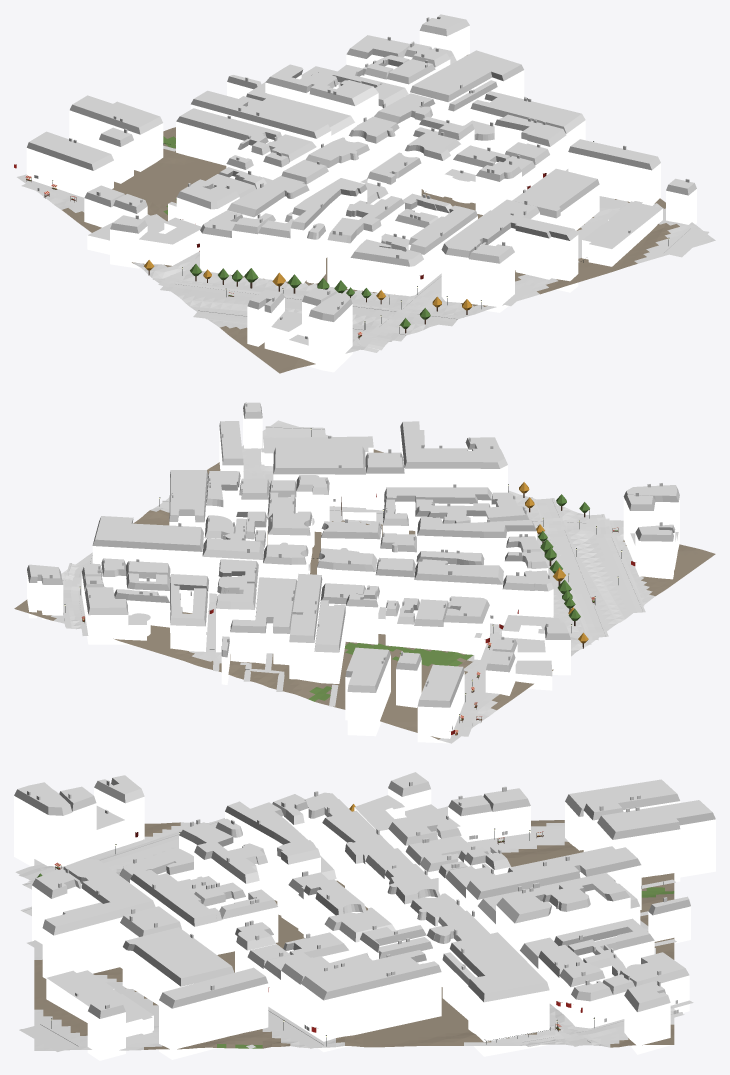
The model's file is zone_G4.glb.
3 views of the same model, one above another, from view 1: azimuth 30°, elevation 25°; view 2: azimuth 150°, elevation 25°; view 3: azimuth 270°, elevation 25° (orthographic). The views are drawn at different scales.
Visible parts, largest first — view 1: zone_G4_batiments, zone_G4_terrain, zone_G4_sol_NOCOL, zone_G4_decor_NOCOL; view 2: zone_G4_batiments, zone_G4_terrain, zone_G4_sol_NOCOL, zone_G4_decor_NOCOL; view 3: zone_G4_batiments, zone_G4_terrain, zone_G4_sol_NOCOL.
Part boxes in pixels (x1,y1,x2,y2): zone_G4_batiments: [26, 14, 696, 372]; zone_G4_terrain: [17, 55, 715, 373]; zone_G4_sol_NOCOL: [21, 145, 709, 352]; zone_G4_decor_NOCOL: [52, 97, 669, 333]; zone_G4_batiments: [27, 402, 679, 743]; zone_G4_terrain: [14, 420, 715, 743]; zone_G4_sol_NOCOL: [62, 426, 645, 736]; zone_G4_decor_NOCOL: [64, 428, 622, 722]; zone_G4_batiments: [14, 772, 715, 1060]; zone_G4_terrain: [34, 820, 674, 1050]; zone_G4_sol_NOCOL: [15, 818, 693, 1051].
Size of the model in its own units: 211 by 33.61 by 230.
